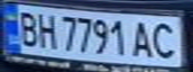1: (109, 17, 130, 56)
7: (57, 12, 78, 52), (75, 15, 93, 52)
9: (90, 16, 112, 55)
A: (127, 18, 157, 60)
B: (12, 8, 42, 47)
C: (148, 19, 184, 61)
H: (33, 10, 60, 49)
